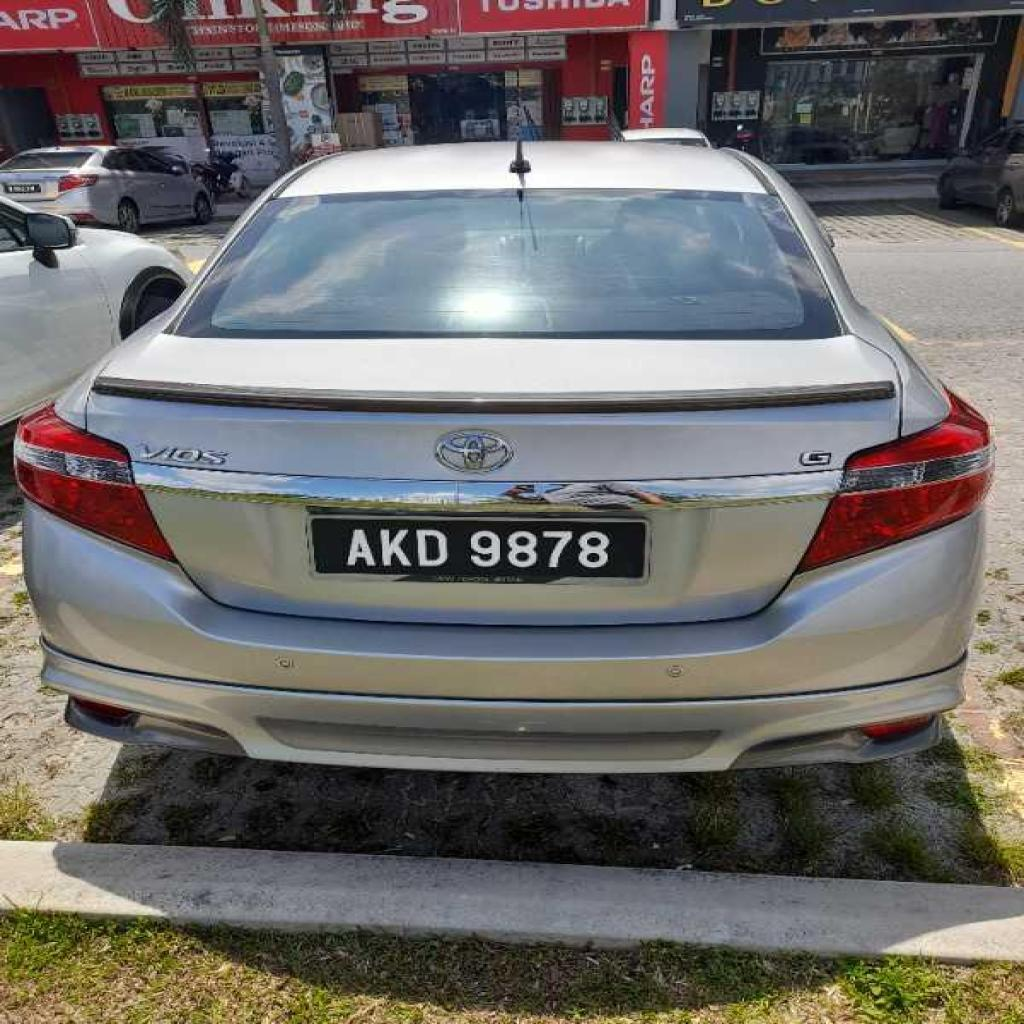car: (14, 142, 990, 769)
car plate: (309, 512, 642, 580)
